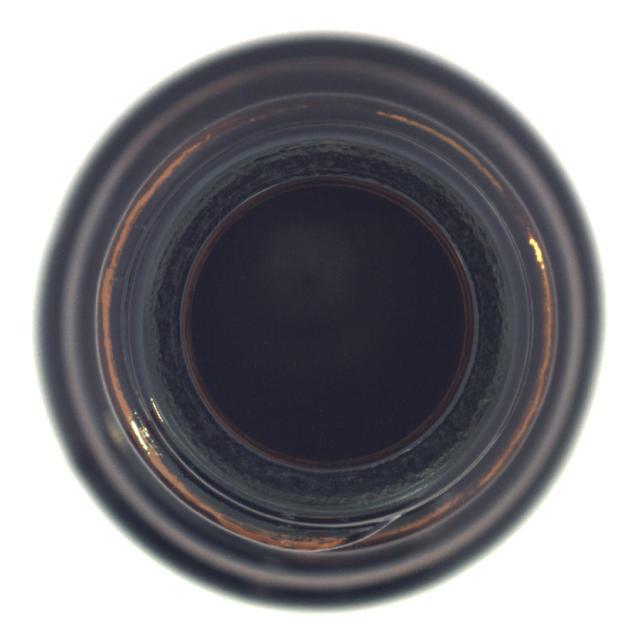bottle-good: (34, 31, 594, 608)
